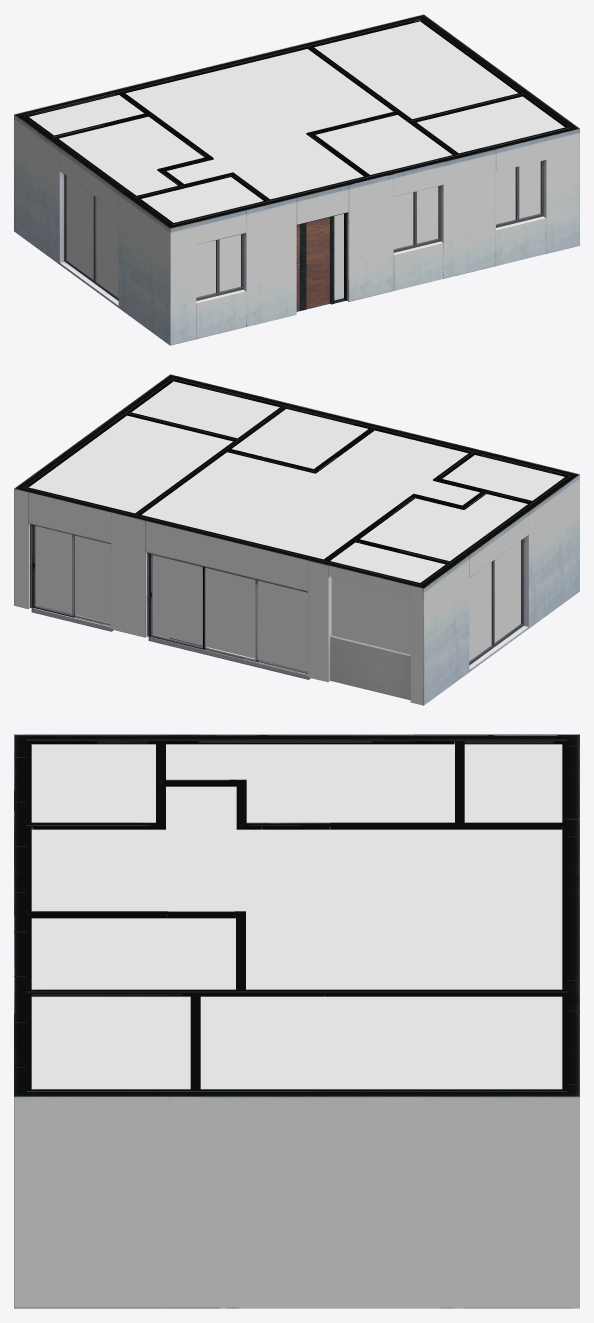
Rendered from TeRaki-05.glb.
3 views of the same model, one above another, from view 1: azimuth 30°, elevation 25°; view 2: azimuth 150°, elevation 25°; view 3: azimuth 270°, elevation 25° (orthographic). The views are drawn at different scales.
Visible parts, largest first — view 1: clip, Apartment.003, openings; view 2: clip, Apartment.003, openings, Cube; view 3: clip, Apartment.003.
Part boxes in pixels (x1,y1,x2,y2): clip: (29, 21, 564, 300); Apartment.003: (14, 14, 579, 345); openings: (64, 160, 543, 311); clip: (29, 381, 564, 671); Apartment.003: (14, 374, 579, 705); openings: (30, 524, 523, 679); Cube: (330, 635, 410, 700); clip: (31, 744, 562, 1089); Apartment.003: (14, 734, 579, 1308).
Size of the model in its own units: 10.26 by 2.9 by 6.77.
7 materials, 6 textured.
